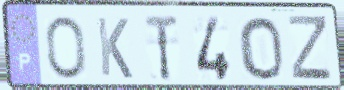4: (193, 14, 232, 83)
K: (95, 15, 135, 81)
O: (236, 14, 286, 82), (43, 14, 89, 82)
T: (142, 12, 180, 83)
Z: (286, 14, 334, 84)
